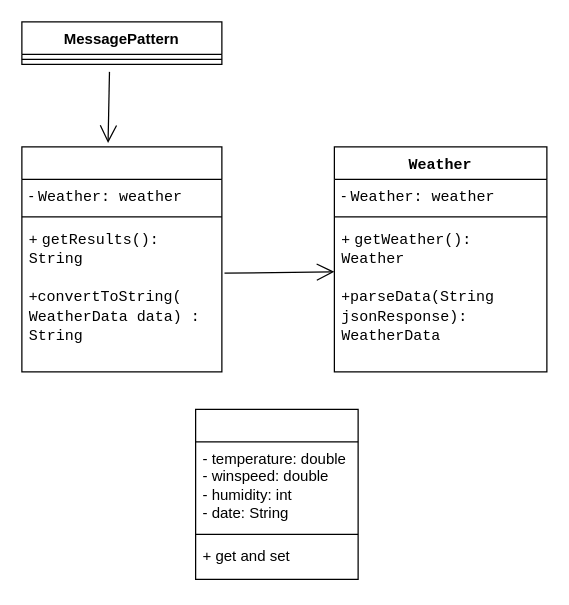
Image size: 569x605. Some labels were removed from this diagram. The box of each missing label's shape, as (x1, y1, x2, y2) in pixels:
WeatherAdapter: (21, 146, 222, 372)
WeatherData: (194, 408, 358, 579)
